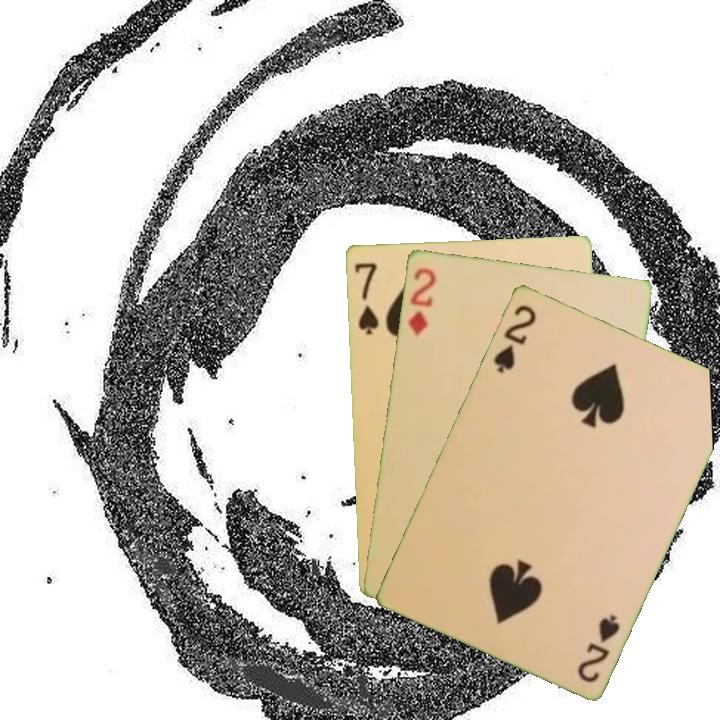2d: (404, 263, 439, 338)
2s: (489, 300, 539, 376), (573, 610, 623, 685)
7s: (350, 258, 381, 337)
